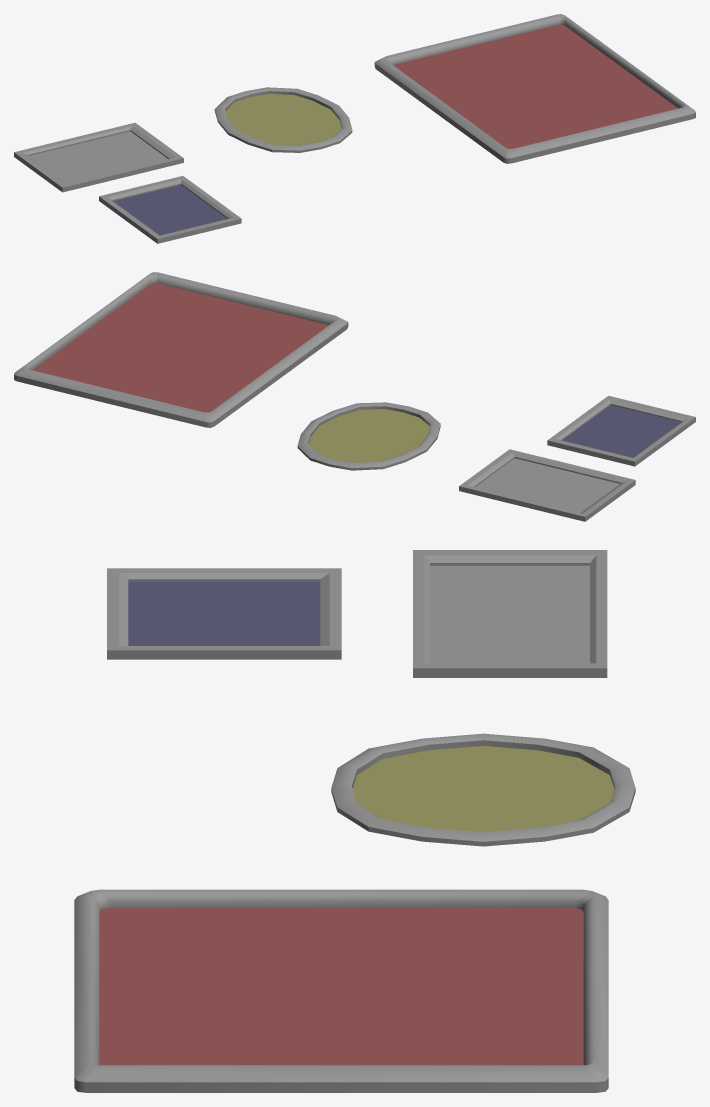
File: Frames.FBX
The picture shows the model from 3 angles, top to bottom: view 1: azimuth 30°, elevation 25°; view 2: azimuth 150°, elevation 25°; view 3: azimuth 270°, elevation 25°; orthographic projection. The views are drawn at different scales.
Visible parts, largest first — view 1: Canvas1, FrameBig, CanvasRound, Canvas2, Canvas3, FrameRectangular, FrameRectangular2, FrameRound; view 2: Canvas1, FrameBig, CanvasRound, Canvas2, Canvas3, FrameRectangular, FrameRectangular2, FrameRound; view 3: Canvas1, FrameBig, CanvasRound, Canvas2, Canvas3, FrameRound, FrameRectangular, FrameRectangular2.
Part boxes in pixels (x1,y1,x2,y2): Canvas1: [393, 24, 677, 148]; FrameBig: [374, 14, 695, 163]; CanvasRound: [225, 93, 341, 145]; Canvas2: [29, 131, 167, 183]; Canvas3: [113, 185, 227, 235]; FrameRectangular: [14, 122, 183, 192]; FrameRectangular2: [99, 176, 241, 243]; FrameRound: [214, 87, 352, 152]; Canvas1: [33, 283, 328, 412]; FrameBig: [14, 272, 348, 427]; CanvasRound: [308, 409, 429, 462]; Canvas2: [475, 458, 619, 512]; Canvas3: [562, 405, 680, 457]; FrameRectangular: [459, 449, 635, 521]; FrameRectangular2: [547, 395, 695, 466]; FrameRound: [297, 402, 440, 470]; Canvas1: [99, 908, 583, 1065]; FrameBig: [74, 889, 608, 1092]; CanvasRound: [352, 746, 613, 832]; Canvas2: [430, 565, 589, 663]; Canvas3: [128, 582, 320, 645]; FrameRound: [331, 733, 635, 846]; FrameRectangular: [413, 550, 607, 677]; FrameRectangular2: [107, 568, 341, 659].
Size of the model in its own units: 112 by 2.52 by 49.41.
